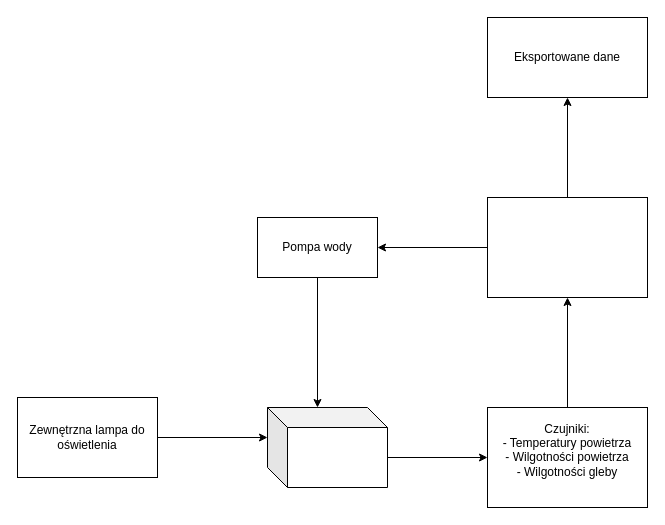
The diagram is 665 pixels wide and 525 high, and some of its shapes have lost their labels. Each missing label, with the centre of its shape:
"Mikrokontroler" belongs at (567,247).
"Monitorowana roślina" belongs at (327,447).
